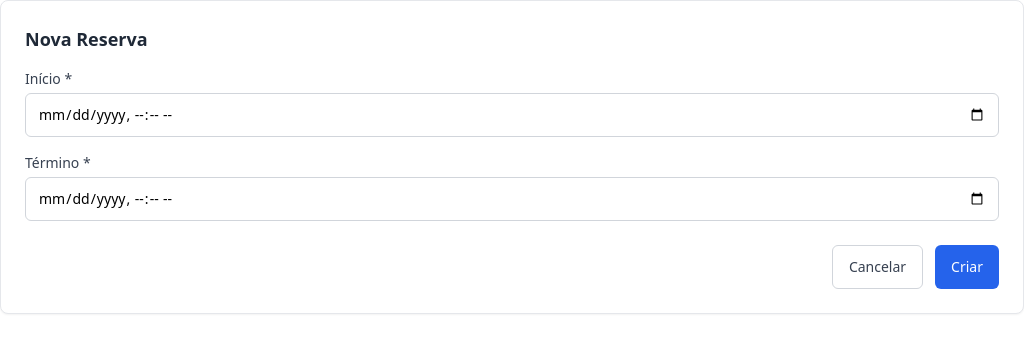
it: ReservationForm › shows validation error when startAt >= endAt
Type "2025-06-01T16:00" into the field labelled "Início *" at (512, 115), box [25,93,999,137]
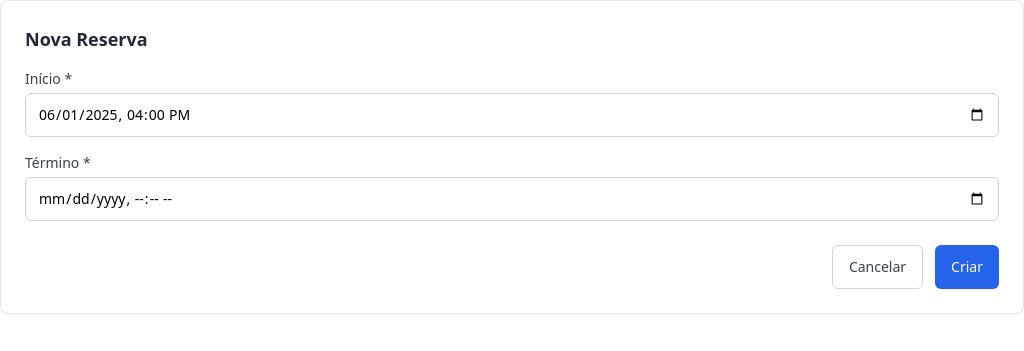
Type "2025-06-01T14:00" into the field labelled "Término *" at (512, 199), box [25,177,999,221]
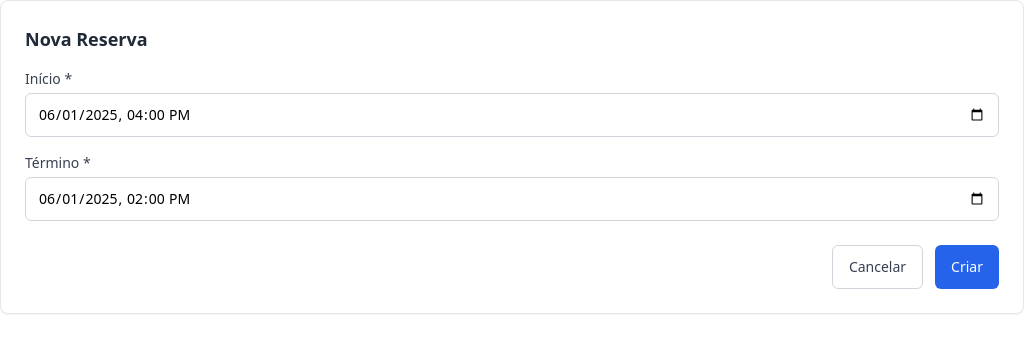
Click the button "Criar" at (967, 267), box [935,245,999,289]
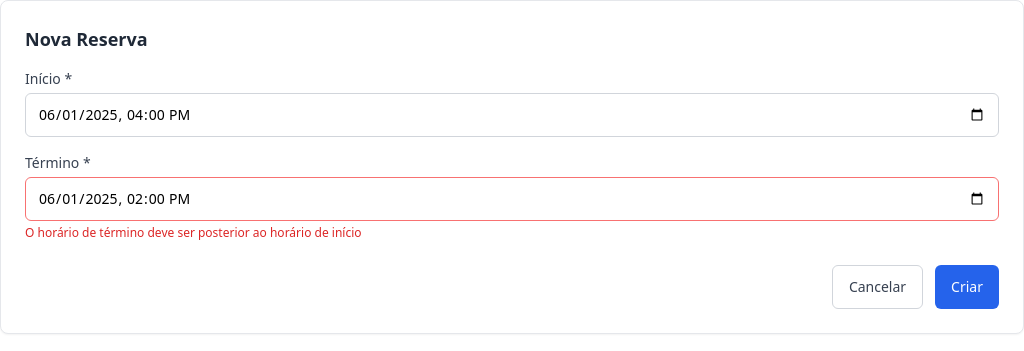
Expected: the text "O horário de término deve ser posterior ao horário de início" is shown, [25,224,362,241]
